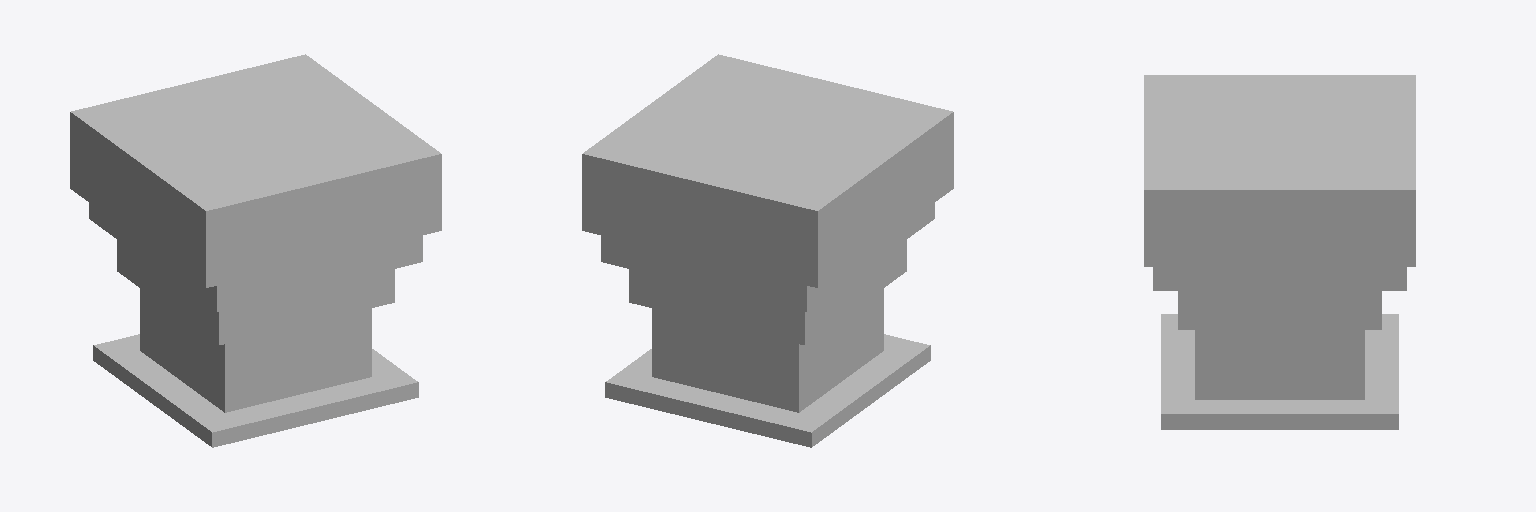
The model's file is pedistal.obj.
The picture shows the model from 3 angles: view 1: azimuth 30°, elevation 25°; view 2: azimuth 150°, elevation 25°; view 3: azimuth 270°, elevation 25°; orthographic projection.
Parts seen in each view (by area): view 1: cube; view 2: cube; view 3: cube.
Part boxes in pixels (bbox=[...]): cube: bbox=[70, 54, 441, 447]; cube: bbox=[582, 54, 953, 447]; cube: bbox=[1144, 75, 1415, 429].
Bounding box in the file's own units: 1 × 1 × 1.